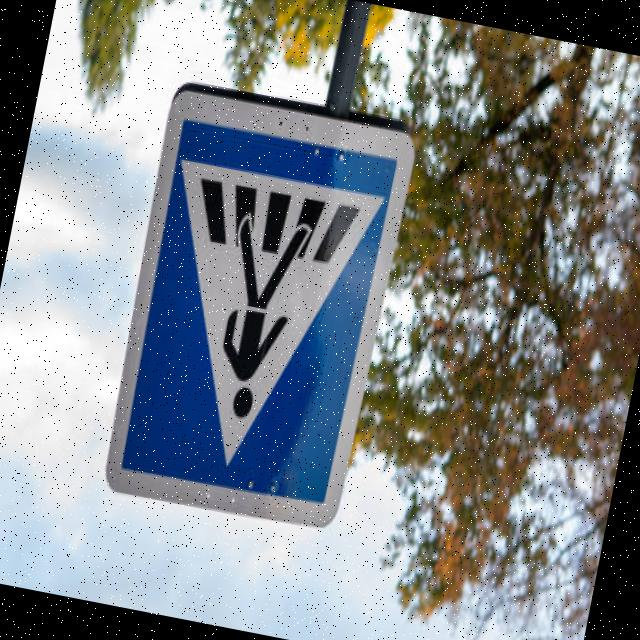crosswalk: (84, 67, 432, 548)
